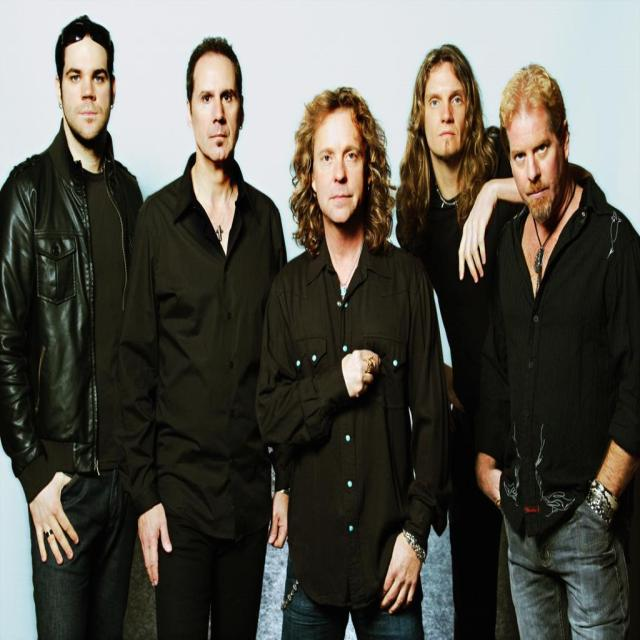Face: (495, 102, 581, 215), (52, 30, 122, 152), (303, 121, 375, 229), (187, 43, 248, 162), (422, 56, 472, 163)
